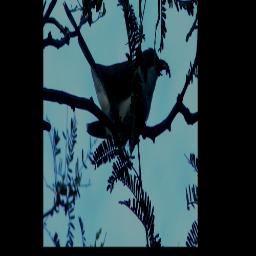Cuckoo: (60, 0, 170, 157)
